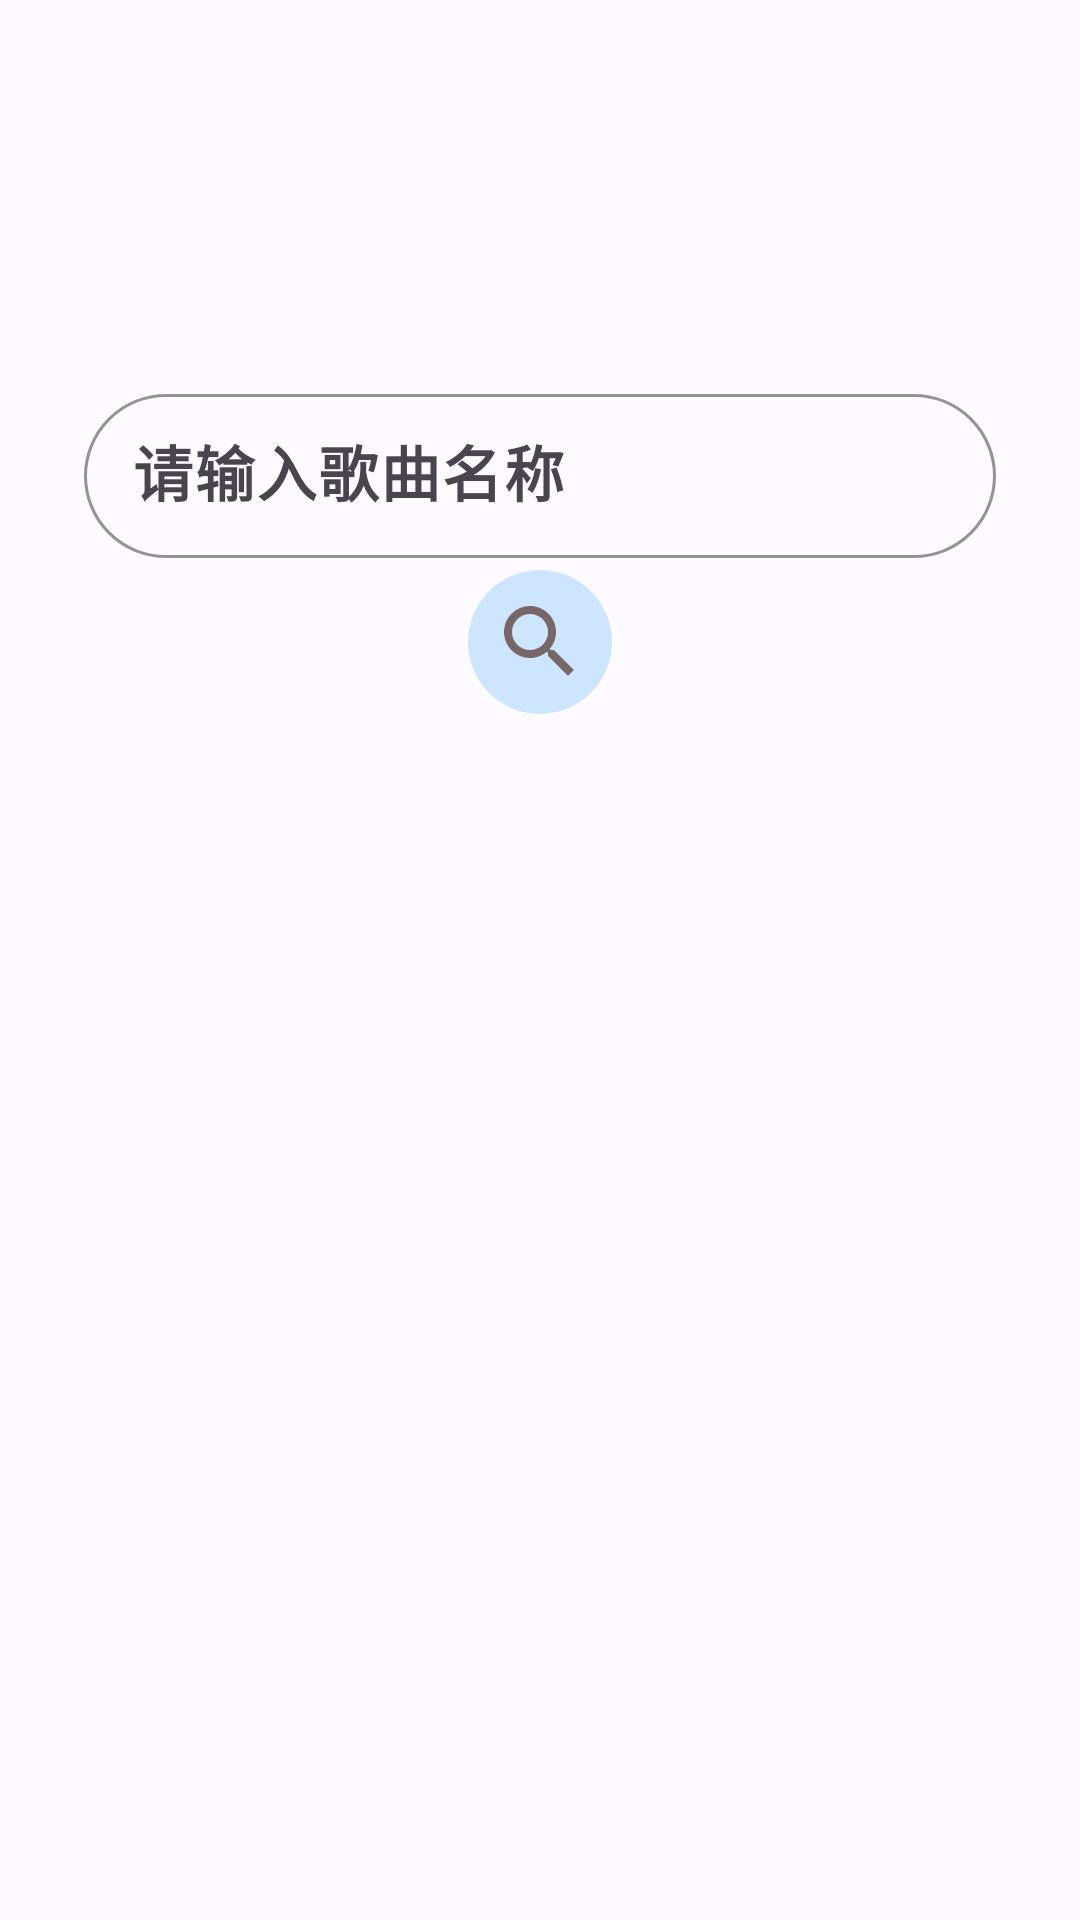

Locate icon controls on the screen. Image size 1080*1920, boxes as bbox(x1, y1, x2, y2).
search: bbox(504, 606, 574, 676)
